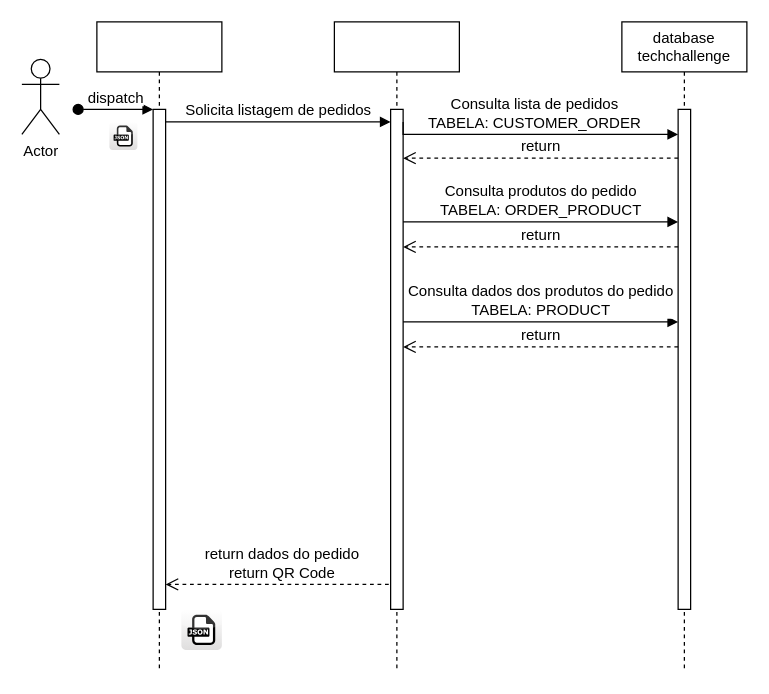
Some shapes in this 769 by 694 pixel diagram are drawn without their labels. Here are the shapes that lost their labels. From the top down, the box of each, then its label:
(96, 21, 222, 672): client
(333, 21, 459, 672): tech-challenge-group-12
